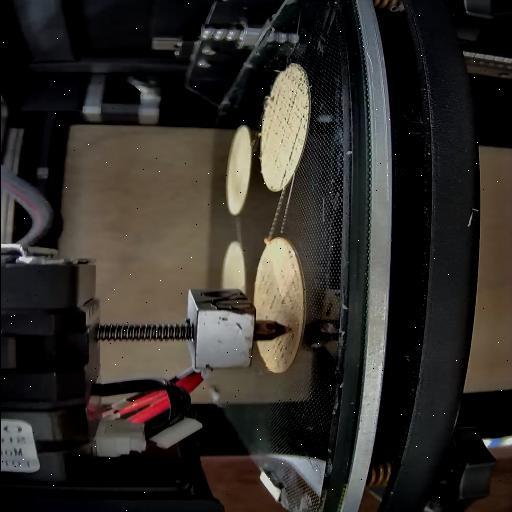under_extrusion: (266, 72, 306, 162), (256, 276, 302, 312), (269, 332, 293, 370), (280, 244, 298, 262), (274, 170, 290, 188)
